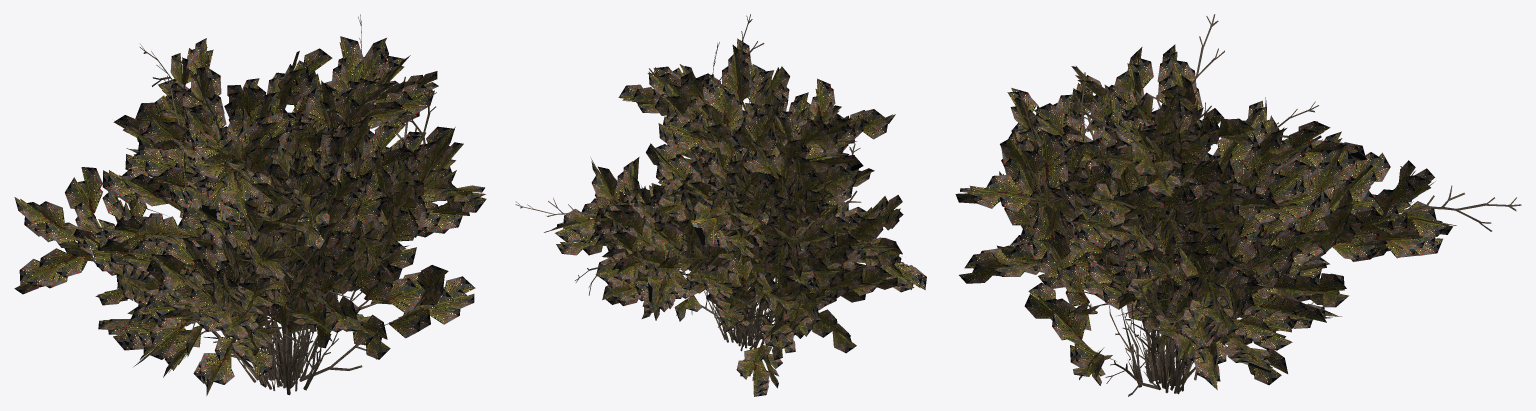
Rendered from rooibos.glb.
3 renders of one model, left to right at view 1: azimuth 30°, elevation 25°; view 2: azimuth 150°, elevation 25°; view 3: azimuth 270°, elevation 25°, orthographic. The views are drawn at different scales.
Parts seen in each view (by area): view 1: rooibos_0, rooibos_1, rooibos_2, rooibos_3, rooibos_4; view 2: rooibos_0, rooibos_1, rooibos_2, rooibos_3; view 3: rooibos_0, rooibos_1, rooibos_3, rooibos_2, rooibos_4.
Boxes of the visible parts, bbox=[...] form: rooibos_0: bbox=[14, 14, 486, 395]; rooibos_1: bbox=[98, 54, 475, 387]; rooibos_2: bbox=[182, 145, 366, 391]; rooibos_3: bbox=[199, 201, 340, 388]; rooibos_4: bbox=[233, 242, 360, 383]; rooibos_0: bbox=[515, 14, 926, 360]; rooibos_1: bbox=[595, 78, 867, 396]; rooibos_2: bbox=[604, 105, 874, 351]; rooibos_3: bbox=[646, 143, 837, 348]; rooibos_0: bbox=[955, 59, 1521, 393]; rooibos_1: bbox=[1024, 14, 1341, 396]; rooibos_3: bbox=[1088, 168, 1321, 388]; rooibos_2: bbox=[1016, 85, 1329, 394]; rooibos_4: bbox=[1097, 238, 1185, 383].
Size of the model in its own units: 0.6966 by 0.5413 by 0.8434.
1 material, 1 textured.
